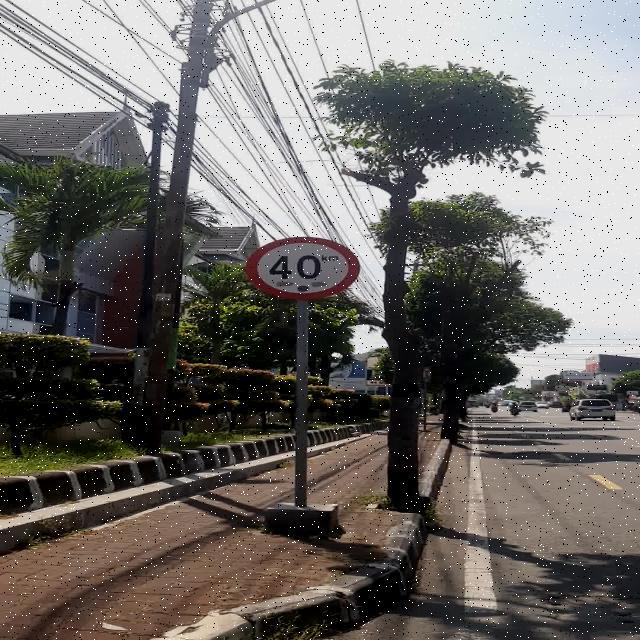Kecepatan Maks. 40 km: (246, 238, 360, 300)
